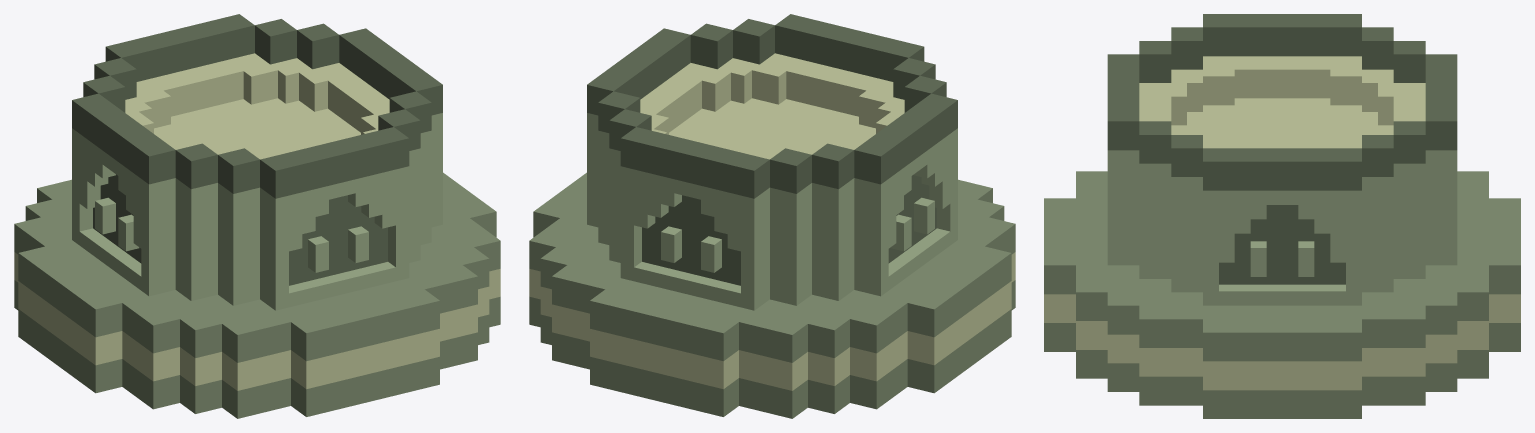
Rendered from small altar-1.obj.
The picture shows the model from 3 angles, left to right: view 1: azimuth 30°, elevation 25°; view 2: azimuth 150°, elevation 25°; view 3: azimuth 270°, elevation 25°; orthographic projection. The views are drawn at different scales.
Size of the model in its own units: 3 by 1.6 by 3.
Materials: 1 (1 with a texture image).
